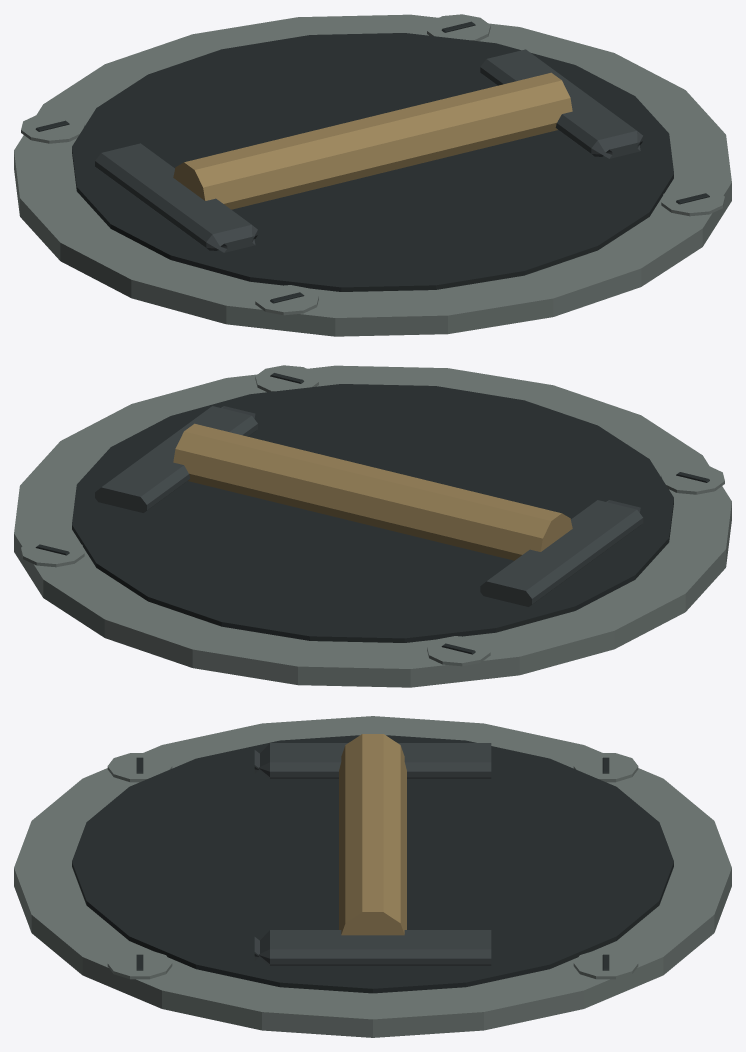
File: FD-03_cargo_socket.glb
3 views of the same model, one above another, from view 1: azimuth 30°, elevation 25°; view 2: azimuth 150°, elevation 25°; view 3: azimuth 270°, elevation 25° (orthographic).
Parts seen in each view (by area): view 1: FD-03_cargo_socket; view 2: FD-03_cargo_socket; view 3: FD-03_cargo_socket.
Boxes of the visible parts, <box> form: FD-03_cargo_socket: <box>14,14,731,336</box>; FD-03_cargo_socket: <box>14,365,731,687</box>; FD-03_cargo_socket: <box>14,716,731,1037</box>.
Size of the model in its own units: 0.422 by 0.041 by 0.422.
